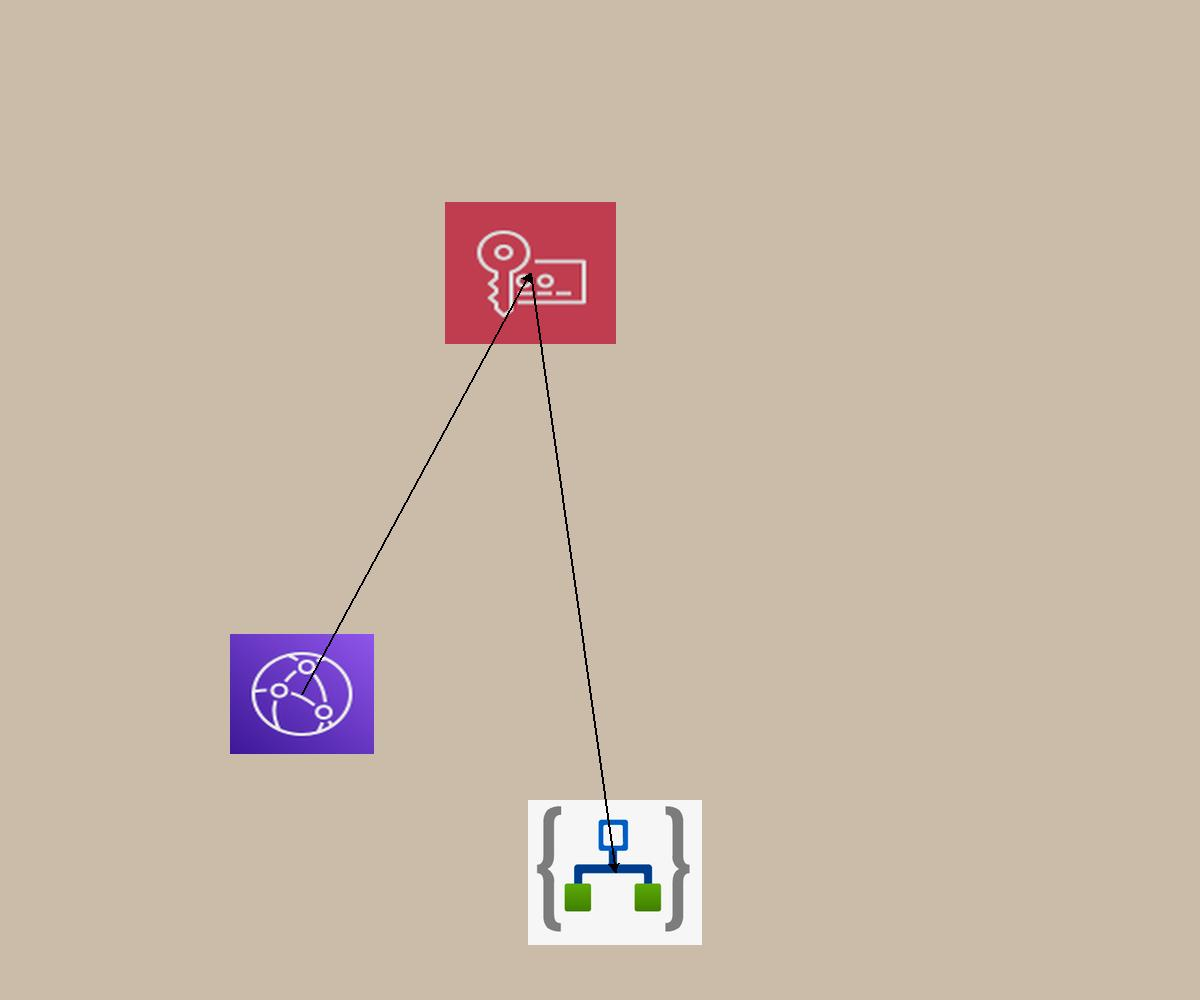AWS-CloudFront: (230, 634, 374, 754)
AWS-Key-Management-Service: (445, 202, 616, 344)
Azure_integration-204-Logic-Apps: (528, 800, 702, 945)
